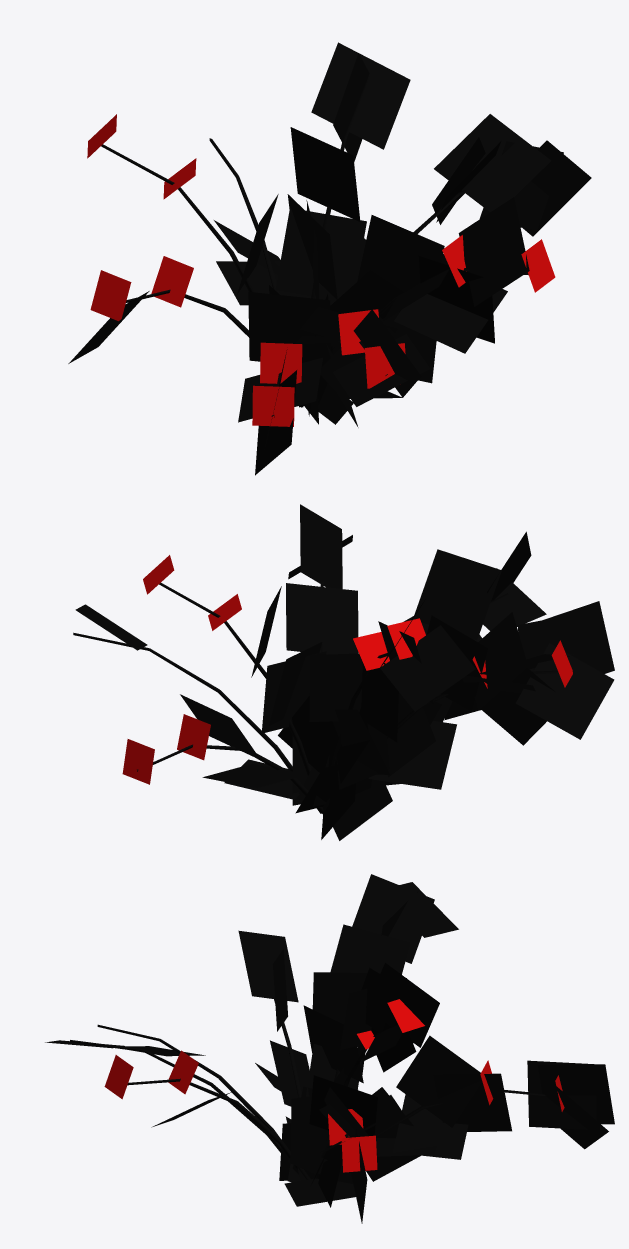
Rendered from rose.glb.
3 views of the same model, one above another, from view 1: azimuth 30°, elevation 25°; view 2: azimuth 150°, elevation 25°; view 3: azimuth 270°, elevation 25° (orthographic). The views are drawn at different scales.
Visible parts, largest first — view 1: lod0; view 2: lod0; view 3: lod0.
Part boxes in pixels (left/top/right/bottom): lod0: left=68, top=42, right=591, bottom=475; lod0: left=73, top=504, right=614, bottom=840; lod0: left=45, top=874, right=614, bottom=1223.
Size of what is drawn, in the model's own units: 1.93 by 1.11 by 2.06.
